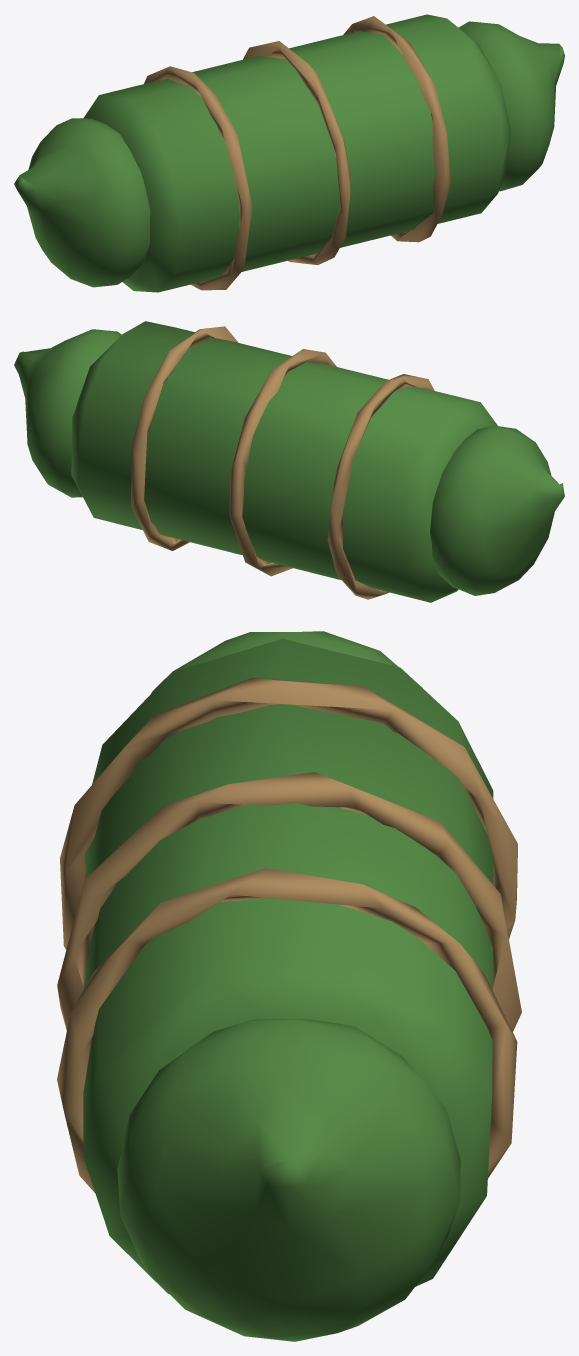
File: cha_cay.glb
3 views of the same model, one above another, from view 1: azimuth 30°, elevation 25°; view 2: azimuth 150°, elevation 25°; view 3: azimuth 270°, elevation 25° (orthographic). The views are drawn at different scales.
Parts seen in each view (by area): view 1: cha_cay; view 2: cha_cay; view 3: cha_cay.
Part boxes in pixels (x1,y1,x2,y2): cha_cay: (14,14,564,292); cha_cay: (14,321,564,602); cha_cay: (57,631,521,1341).
Bounding box in the file's own units: 0.3319 × 0.1219 × 0.1219.
